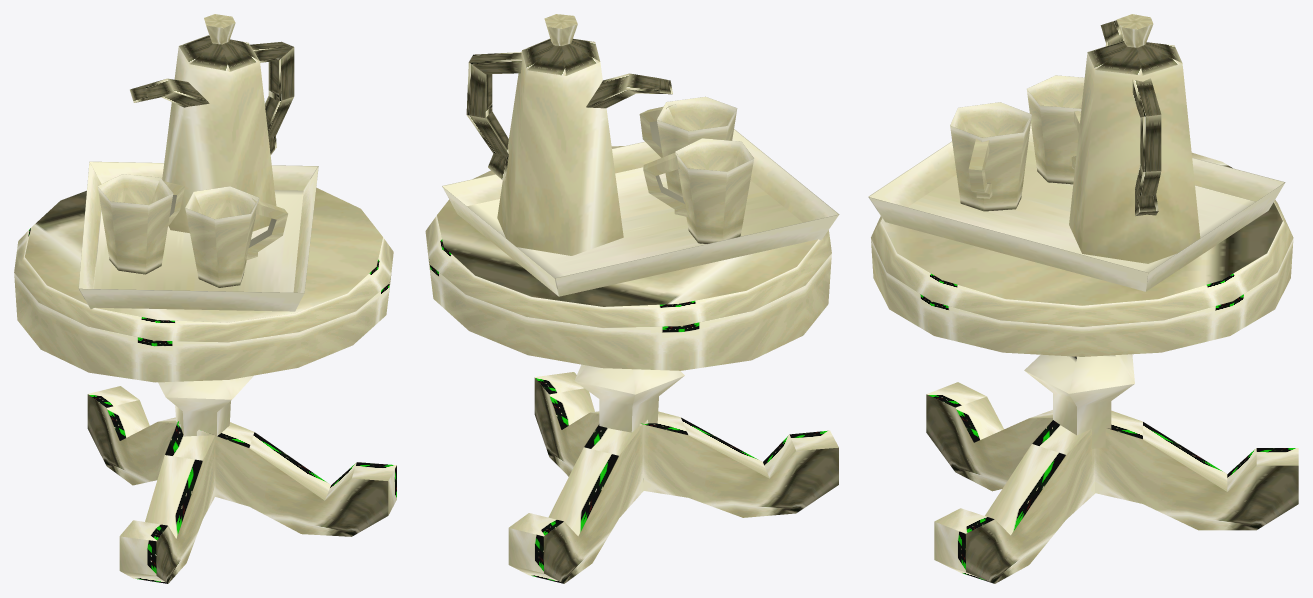
The model's file is desk.glb.
The picture shows the model from 3 angles, left to right: view 1: azimuth 30°, elevation 25°; view 2: azimuth 150°, elevation 25°; view 3: azimuth 270°, elevation 25°; orthographic projection. The views are drawn at different scales.
Visible parts, largest first — view 1: otukue; view 2: otukue; view 3: otukue.
Part boxes in pixels (left/top/right/bottom): otukue: left=14, top=14, right=396, bottom=583; otukue: left=425, top=14, right=839, bottom=583; otukue: left=868, top=14, right=1298, bottom=583.
Size of the model in its own units: 160 by 218 by 163.
Materials: 5 (5 with a texture image).
